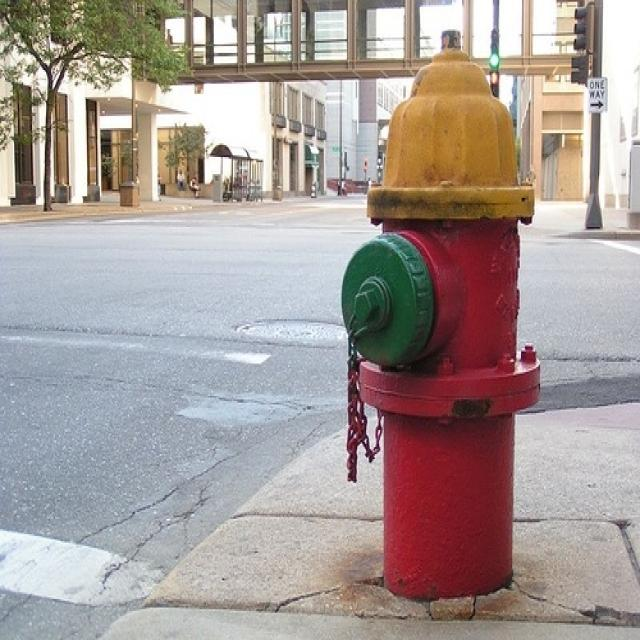fire_hydrant: (320, 61, 598, 617)
